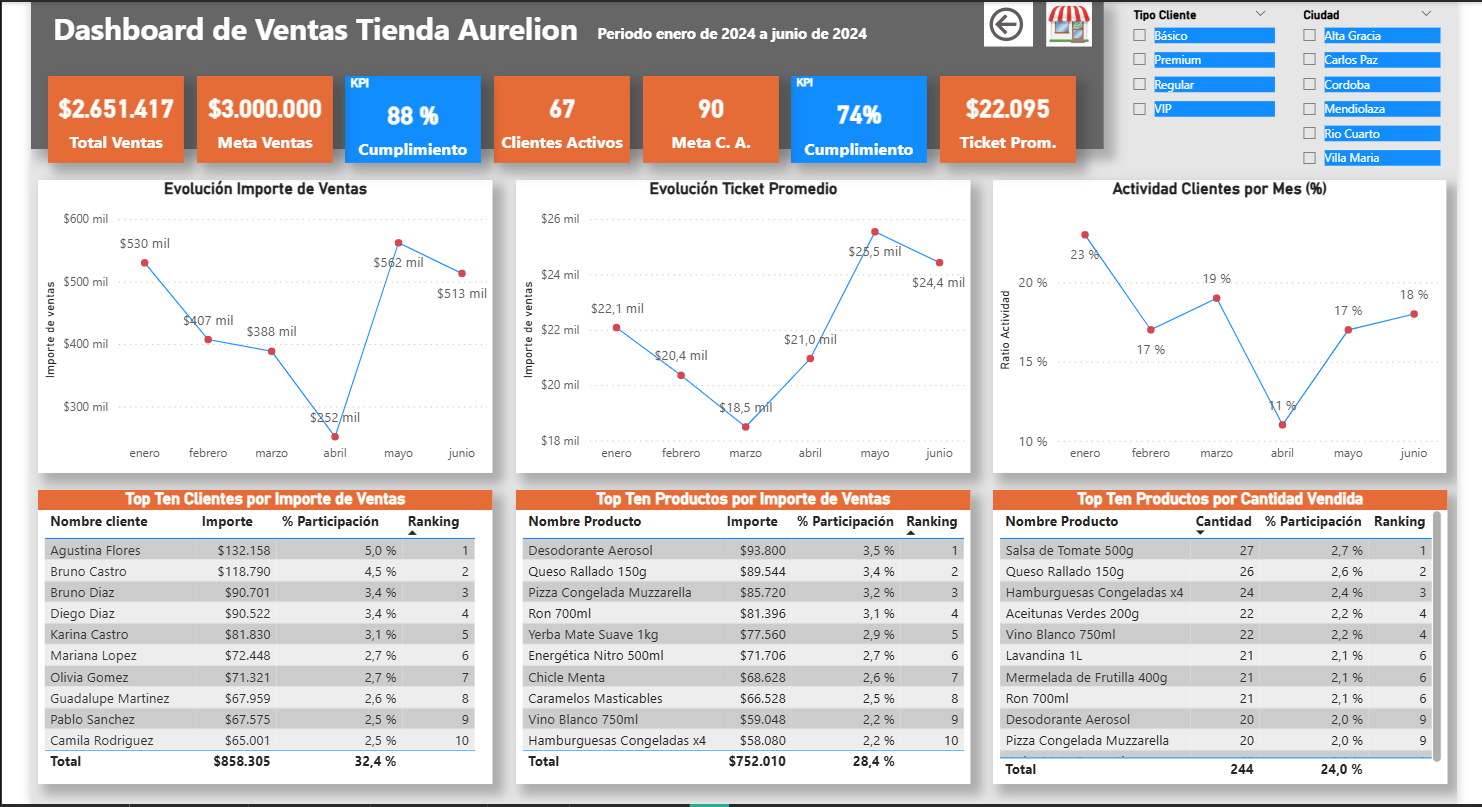

The page's visual inventory and layout, read from the dashboard file:
{"tool":"powerbi","page":{"name":"Ventas General","canvas":[1280,720],"ordinal":1},"visuals":[{"type":"lineChart","title":"Evolución Ticket Promedio","fields":{"Y":["detalle_ventas.Ticket Promedio"],"Category":["Calendario.Mes","Calendario.Trimestre Jerarquía.Trimestre","Calendario.Día Jerarquía.Día"]},"box":[435.8,160.2,408.4,262.8],"z":0},{"type":"actionButton","box":[0,0,100,40],"z":1000},{"type":"textbox","box":[0,0,963.3,132],"z":2000},{"type":"card","fields":{"Values":["detalle_ventas.Total Ventas"]},"box":[15.3,66.4,122.1,78.1],"z":3000},{"type":"lineChart","title":"Evolución Importe de Ventas","fields":{"Y":["Sum(detalle_ventas.importe)"],"Category":["Calendario.Mes","Calendario.Trimestre Jerarquía.Trimestre","Calendario.Día Jerarquía.Día"]},"box":[5.9,160.2,408.4,262.8],"z":4000},{"type":"textbox","box":[503.3,14.5,267.5,34.5],"z":5000},{"type":"tableEx","title":"Top Ten Clientes por Importe de Ventas","fields":{"Values":["ventas.nombre_cliente","Sum(detalle_ventas.importe)","Sum(detalle_ventas.% Participacion)","ventas.Ranking Clientes"]},"box":[5.9,437.7,408.4,263.8],"z":6000},{"type":"tableEx","title":"Top Ten Productos por Importe de Ventas","fields":{"Values":["productos.nombre_producto","Sum(detalle_ventas.importe)","Sum(detalle_ventas.% Participacion)","productos.Ranking Productos Importe"]},"box":[435.8,437.7,408.4,263.8],"z":7000},{"type":"lineChart","title":"Actividad Clientes por Mes (%)","fields":{"Category":["Calendario.Mes","Calendario.Trimestre Jerarquía.Trimestre","Calendario.Día Jerarquía.Día"],"Y":["ventas.% Ratio Actividad"]},"box":[863.6,159.8,406.7,263],"z":8000},{"type":"tableEx","title":"Top Ten Productos por Cantidad Vendida","fields":{"Values":["productos.nombre_producto","Sum(detalle_ventas.cantidad)","Sum(detalle_ventas.% Participacion Cantidad)","productos.Ranking Productos Cantidad"]},"box":[863.8,437.7,408.4,263.8],"z":9000},{"type":"card","fields":{"Values":["ventas.Clientes Activos"]},"box":[415.7,66.4,122.1,78.1],"z":10000},{"type":"slicer","fields":{"Values":["clientes segmentado.segmento"]},"box":[977.1,0,144.6,113.3],"z":11000},{"type":"slicer","fields":{"Values":["clientes.ciudad"]},"box":[1129.5,0,140.7,160.2],"z":12000},{"type":"card","title":"KPI","fields":{"Values":["detalle_ventas.% Cumplimiento"]},"box":[282.2,66.4,122.1,78.1],"z":13000},{"type":"image","box":[900.4,0,62.8,40.4],"z":14000},{"type":"card","title":"KPI","fields":{"Values":["clientes.% Cumplimiento Clientes"]},"box":[682.6,66.4,122.1,78.1],"z":15000},{"type":"card","fields":{"Values":["detalle_ventas.Meta Ventas"]},"box":[148.7,66.4,122.1,78.1],"z":16000},{"type":"card","fields":{"Values":["clientes.Meta C.A."]},"box":[549.1,66.4,122.1,78.1],"z":17000},{"type":"card","fields":{"Values":["detalle_ventas.Tcket Promedio"]},"box":[816.1,66.4,122.1,78.1],"z":18000},{"type":"actionButton","box":[855.5,0,43.7,40.1],"z":19000}]}

Visuals, with their boxes on the page's 1280x720 design canvas (x1, y1, x2, y2). These are canvas units, not pixel positions in the 1482x807 screenshot, which may show the page scaled, cropped or inside an application window:
"Evolución Ticket Promedio" lineChart: crop(436, 160, 844, 423)
actionButton: crop(0, 0, 100, 40)
textbox: crop(0, 0, 963, 132)
card - detalle_ventas.Total Ventas: crop(15, 66, 137, 144)
"Evolución Importe de Ventas" lineChart: crop(6, 160, 414, 423)
textbox: crop(503, 14, 771, 49)
"Top Ten Clientes por Importe de Ventas" tableEx: crop(6, 438, 414, 702)
"Top Ten Productos por Importe de Ventas" tableEx: crop(436, 438, 844, 702)
"Actividad Clientes por Mes (%)" lineChart: crop(864, 160, 1270, 423)
"Top Ten Productos por Cantidad Vendida" tableEx: crop(864, 438, 1272, 702)
card - ventas.Clientes Activos: crop(416, 66, 538, 144)
slicer - clientes segmentado.segmento: crop(977, 0, 1122, 113)
slicer - clientes.ciudad: crop(1130, 0, 1270, 160)
"KPI" card: crop(282, 66, 404, 144)
image: crop(900, 0, 963, 40)
"KPI" card: crop(683, 66, 805, 144)
card - detalle_ventas.Meta Ventas: crop(149, 66, 271, 144)
card - clientes.Meta C.A.: crop(549, 66, 671, 144)
card - detalle_ventas.Tcket Promedio: crop(816, 66, 938, 144)
actionButton: crop(856, 0, 899, 40)
